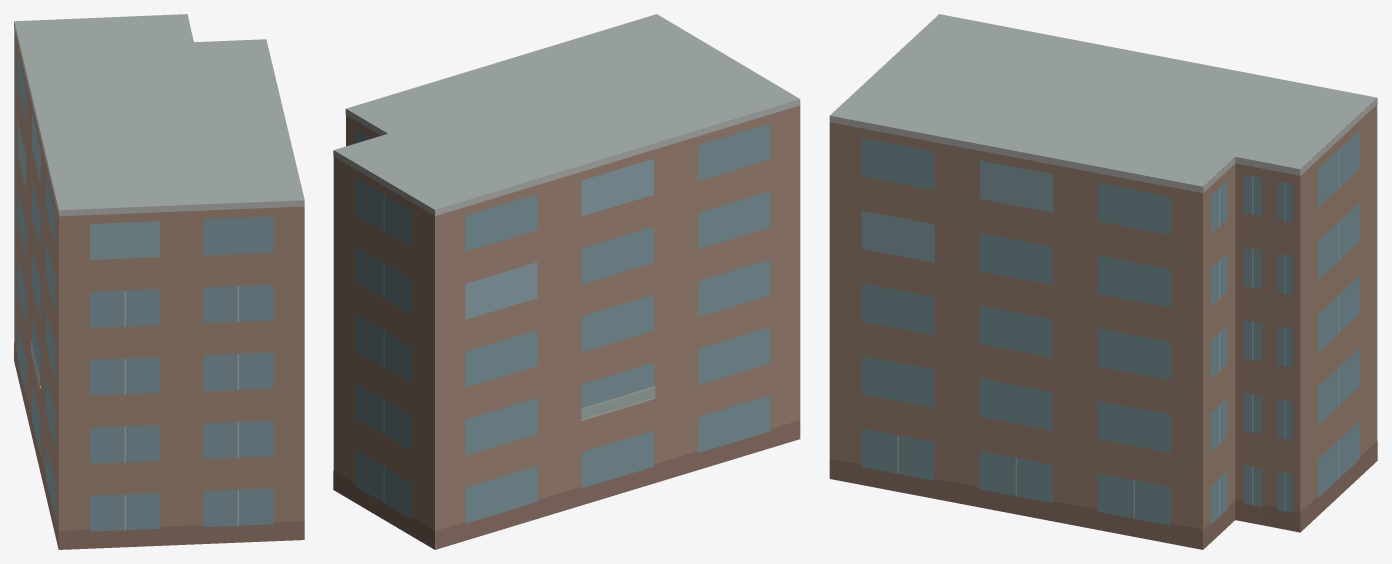
Rendered from survey-upis-32946745.glb.
The picture shows the model from 3 angles, left to right: view 1: azimuth 30°, elevation 25°; view 2: azimuth 150°, elevation 25°; view 3: azimuth 270°, elevation 25°; orthographic projection. The views are drawn at different scales.
Parts seen in each view (by area): view 1: survey-upis-32946745.tmp; view 2: survey-upis-32946745.tmp; view 3: survey-upis-32946745.tmp.
Boxes of the visible parts, x1,y1,x2,y2 form: survey-upis-32946745.tmp: (14,14,304,549); survey-upis-32946745.tmp: (333,14,800,549); survey-upis-32946745.tmp: (829,14,1377,549).
Bounding box in the file's own units: 13.62 × 13.35 × 18.26.
